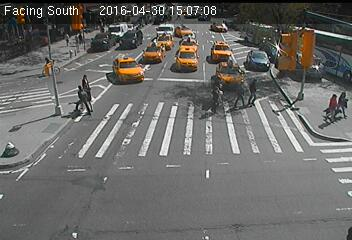neg: (45, 117, 68, 149), (10, 153, 32, 183), (312, 34, 334, 63), (176, 61, 197, 89), (267, 54, 288, 81), (243, 32, 263, 59), (116, 59, 136, 85), (4, 44, 21, 67), (36, 90, 51, 110), (165, 23, 180, 43), (127, 32, 141, 51), (232, 23, 246, 41), (34, 52, 46, 68), (66, 51, 78, 67), (205, 21, 217, 36)
pos: (68, 83, 91, 115), (321, 90, 342, 118), (246, 78, 267, 105), (230, 80, 250, 107), (334, 88, 351, 119), (207, 87, 226, 112), (62, 32, 72, 46), (77, 32, 86, 44)
